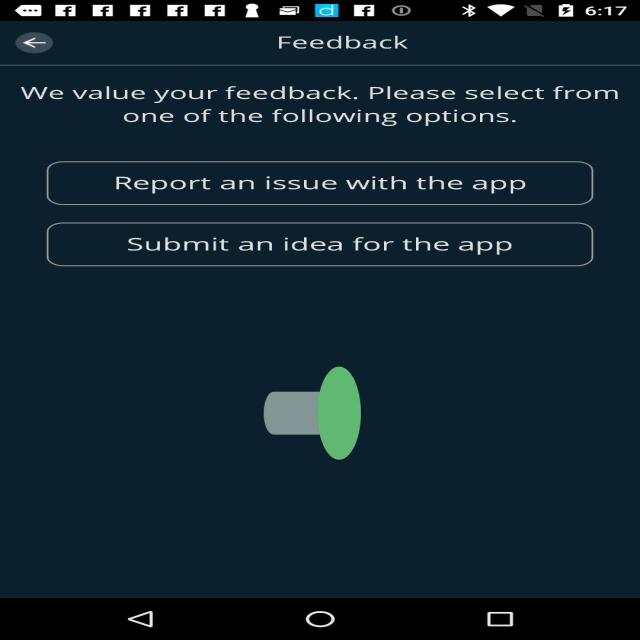social proof: (264, 309, 361, 517)
